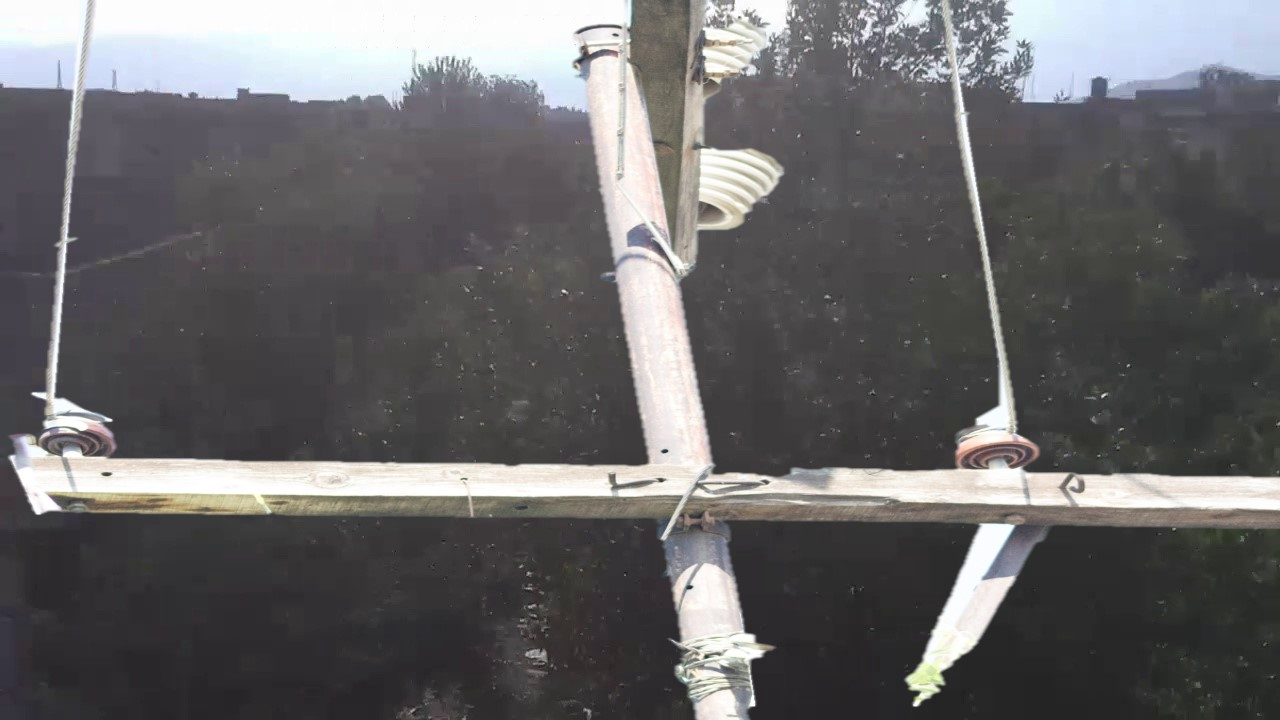defect_pin: (34, 393, 119, 461)
insulator_pin: (953, 417, 1043, 468)
